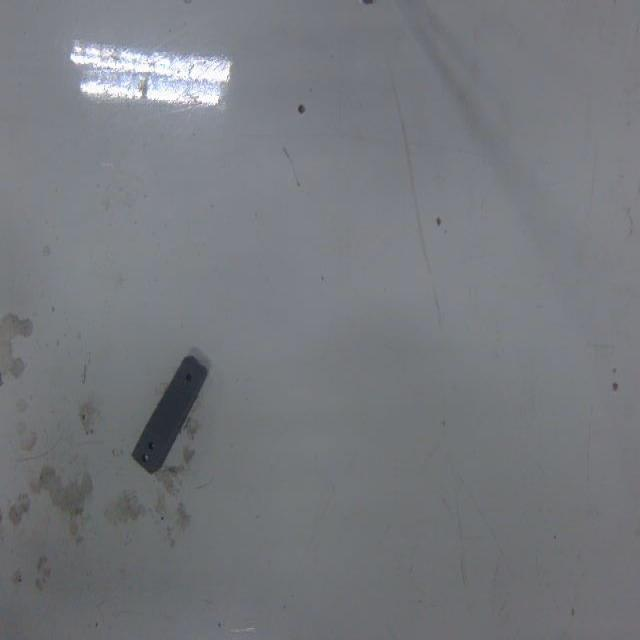grey: (126, 354, 213, 484)
head: (184, 370, 193, 384)
